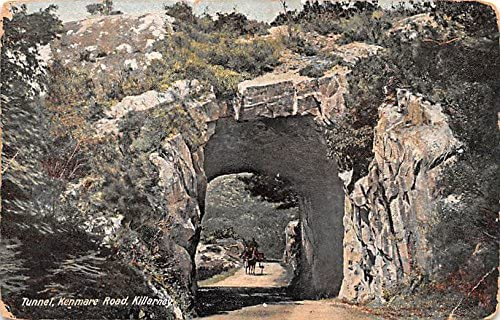bridge: (190, 102, 359, 299)
